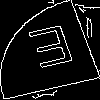E: (25, 24, 81, 78)
